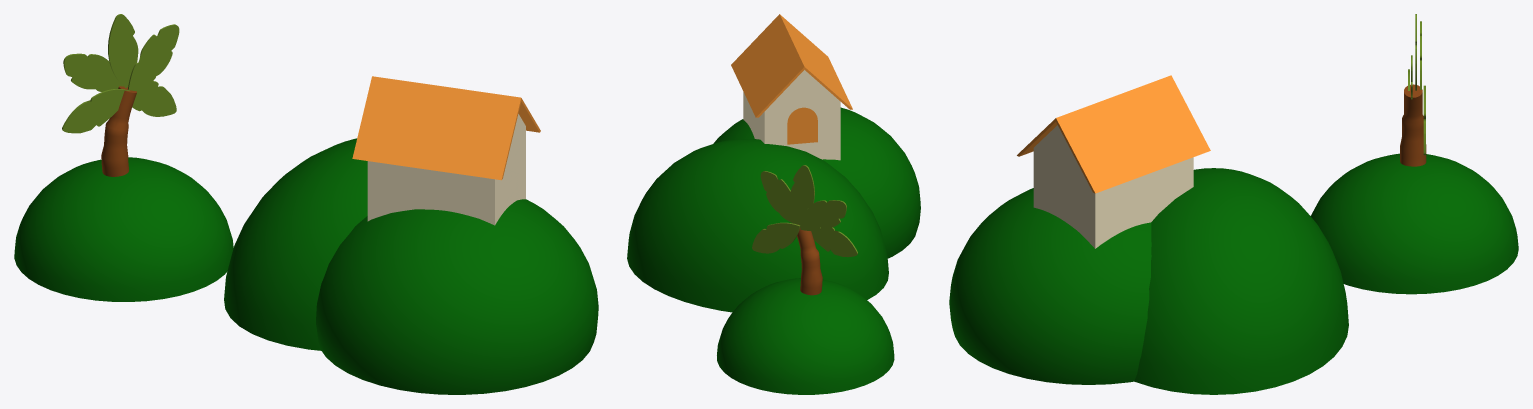
Rendered from Cena Ilha_11_01_25.fbx.
3 views of the same model, side by side, from view 1: azimuth 30°, elevation 25°; view 2: azimuth 150°, elevation 25°; view 3: azimuth 270°, elevation 25° (orthographic). The views are drawn at different scales.
Visible parts, largest first — view 1: ISLAND_2_1, ISLAND_1_1, ROOF1, HOUSE1, PALM_3D1, LEAF_02_1, LEAF_04_1, LEAF_03_1, LEAF_05_1, BASE1, LEAF_01_1; view 2: ISLAND_2_1, ISLAND_1_1, ROOF1, HOUSE1, PALM_3D1, LEAF_04_1, LEAF_01_1, DOOR1, LEAF_02_1, LEAF_03_1, BASE1, LEAF_05_1; view 3: ISLAND_2_1, ISLAND_1_1, ROOF1, HOUSE1, BASE1, PALM_3D1.
Boxes of the visible parts, x1,y1,x2,y2 form: ISLAND_2_1: (224, 138, 598, 394); ISLAND_1_1: (14, 157, 233, 301); ROOF1: (352, 76, 540, 180); HOUSE1: (367, 114, 525, 214); PALM_3D1: (101, 86, 136, 176); LEAF_02_1: (128, 24, 179, 90); LEAF_04_1: (63, 53, 123, 91); LEAF_03_1: (108, 14, 138, 88); LEAF_05_1: (62, 89, 129, 133); BASE1: (367, 177, 525, 225); LEAF_01_1: (127, 81, 176, 116); ISLAND_2_1: (627, 107, 920, 312); ISLAND_1_1: (717, 278, 894, 394); ROOF1: (731, 14, 852, 117); HOUSE1: (743, 70, 840, 145); PALM_3D1: (797, 224, 822, 295); LEAF_04_1: (799, 200, 846, 231); LEAF_01_1: (752, 222, 800, 253); DOOR1: (787, 107, 817, 144); LEAF_02_1: (760, 171, 798, 224); LEAF_03_1: (790, 165, 814, 222); BASE1: (743, 102, 840, 160); LEAF_05_1: (811, 227, 857, 257); ISLAND_2_1: (949, 168, 1348, 394); ISLAND_1_1: (1311, 153, 1518, 294); ROOF1: (1017, 75, 1210, 193); HOUSE1: (1033, 125, 1193, 226); BASE1: (1033, 195, 1180, 248); PALM_3D1: (1400, 84, 1426, 166).
Size of the model in its own units: 24.18 by 13.77 by 30.41.
